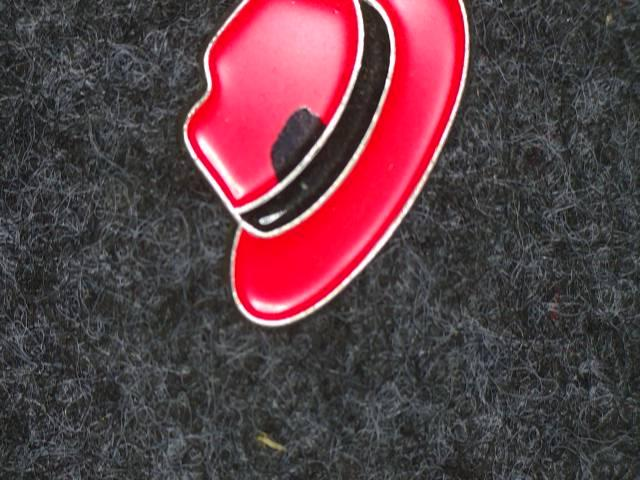Red-Hat: (167, 0, 490, 358)
Scratch: (255, 93, 346, 193)
